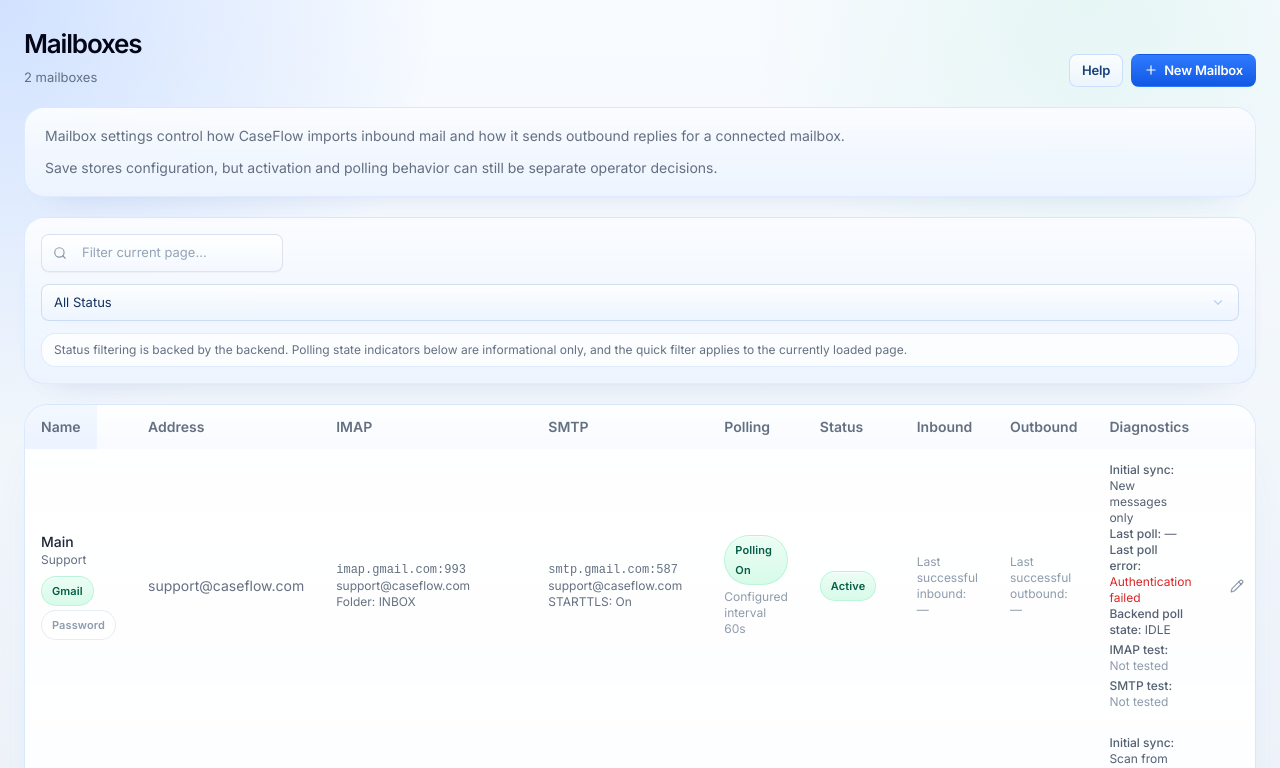
it: MailboxManagementPage › shows an honest recovery note instead of fake admin mail operations
Step 1. Click the button titled "Edit" → (1237, 586), box 1224,573 -> 1250,599
(page scrolled)
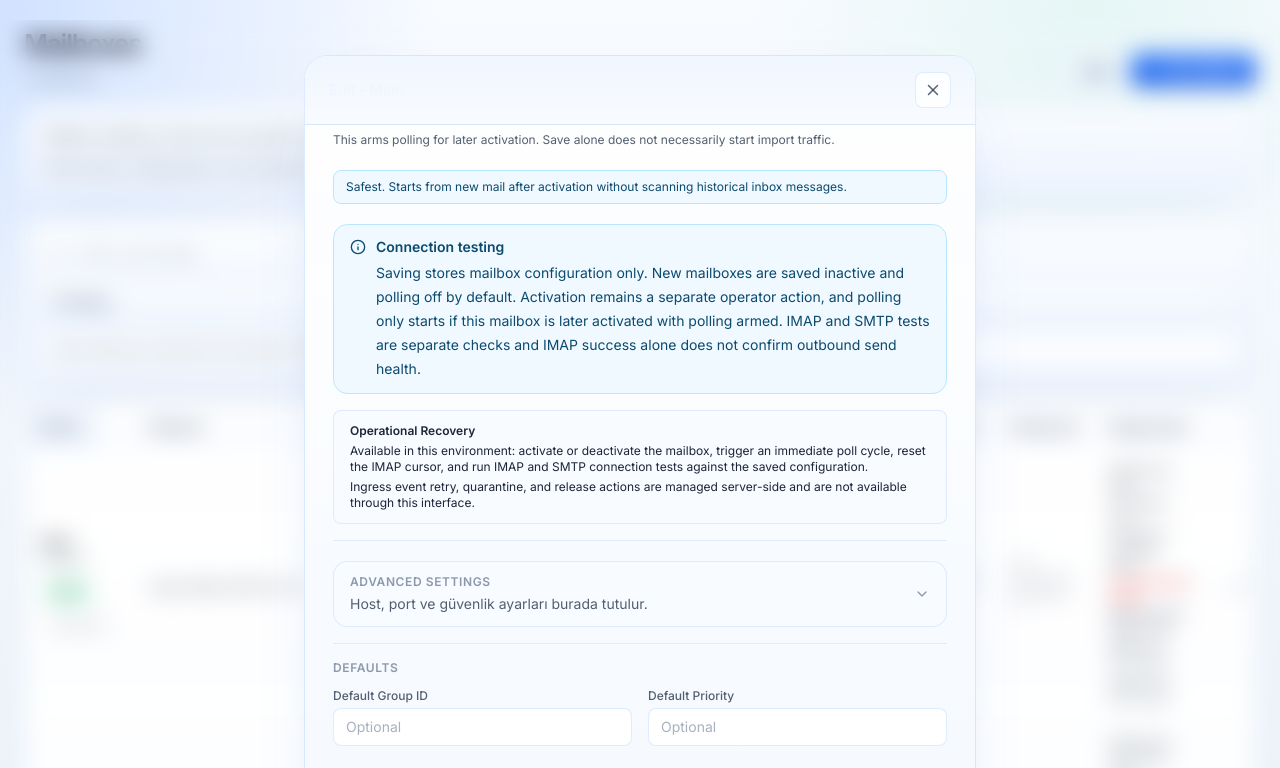
Check: the text "Operational Recovery" is shown, box 350,422 -> 475,438
Check: the text "Ingress event retry, quarantine, and release actions are managed server-side and are not available through this interfac" is shown, box 350,478 -> 907,510
